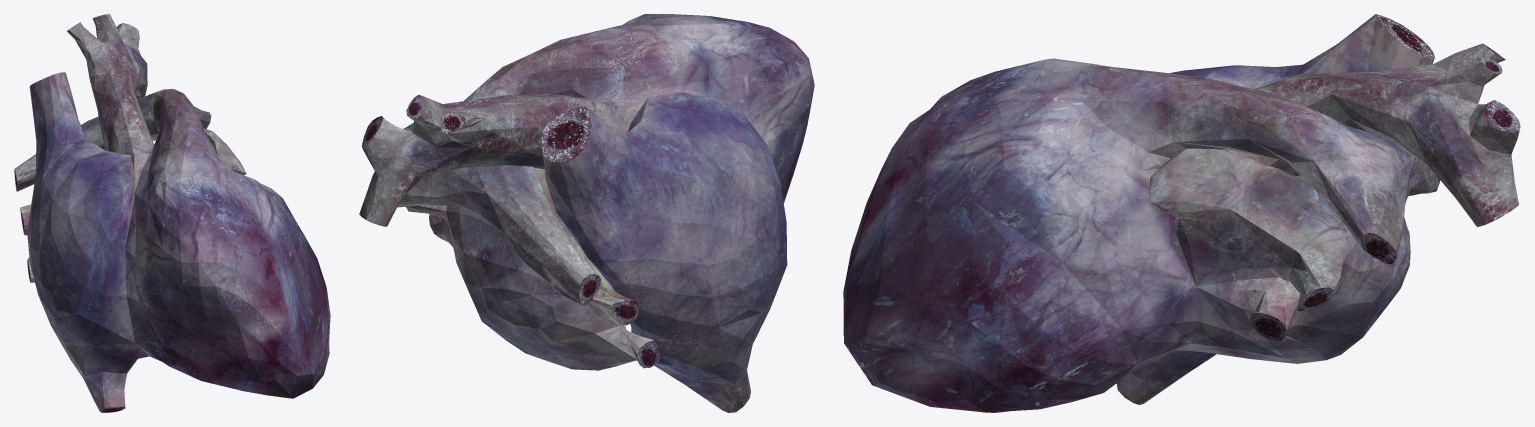
File: Heart.fbx
3 renders of one model, left to right at view 1: azimuth 30°, elevation 25°; view 2: azimuth 150°, elevation 25°; view 3: azimuth 270°, elevation 25°, orthographic. The views are drawn at different scales.
Visible parts, largest first — view 1: heart_real; view 2: heart_real; view 3: heart_real.
Boxes of the visible parts, x1,y1,x2,y2 form: heart_real: (14, 14, 330, 412); heart_real: (359, 14, 814, 412); heart_real: (843, 14, 1520, 412).
Size of the model in its own units: 9.43 by 11.55 by 16.73.
